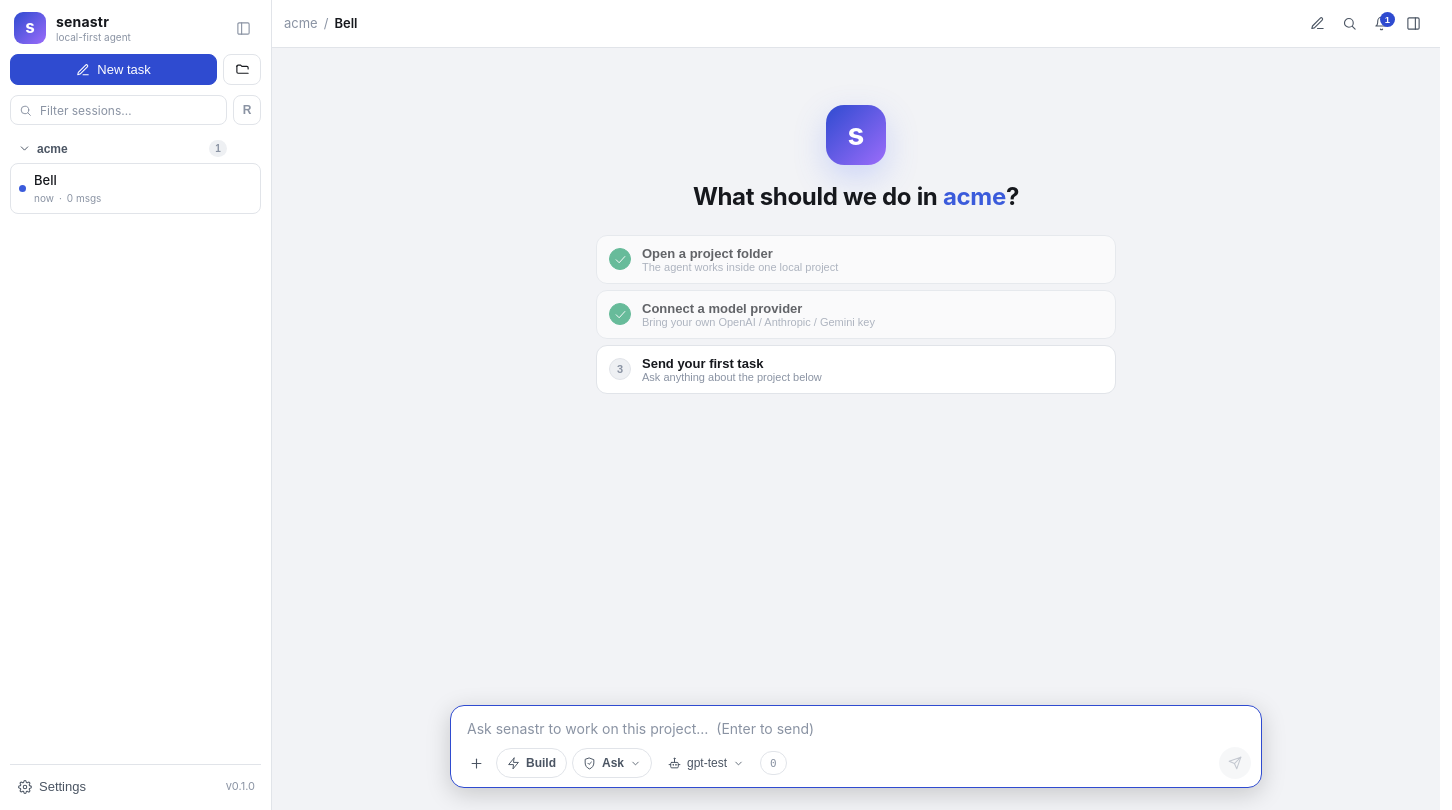
Test: chat shell — topbar › notification bell opens the work panel activity tab
The width and height of the screenshot is (1452, 810).
Click the button named "1 unread notification": click(1381, 24) [1366, 8, 1396, 38]
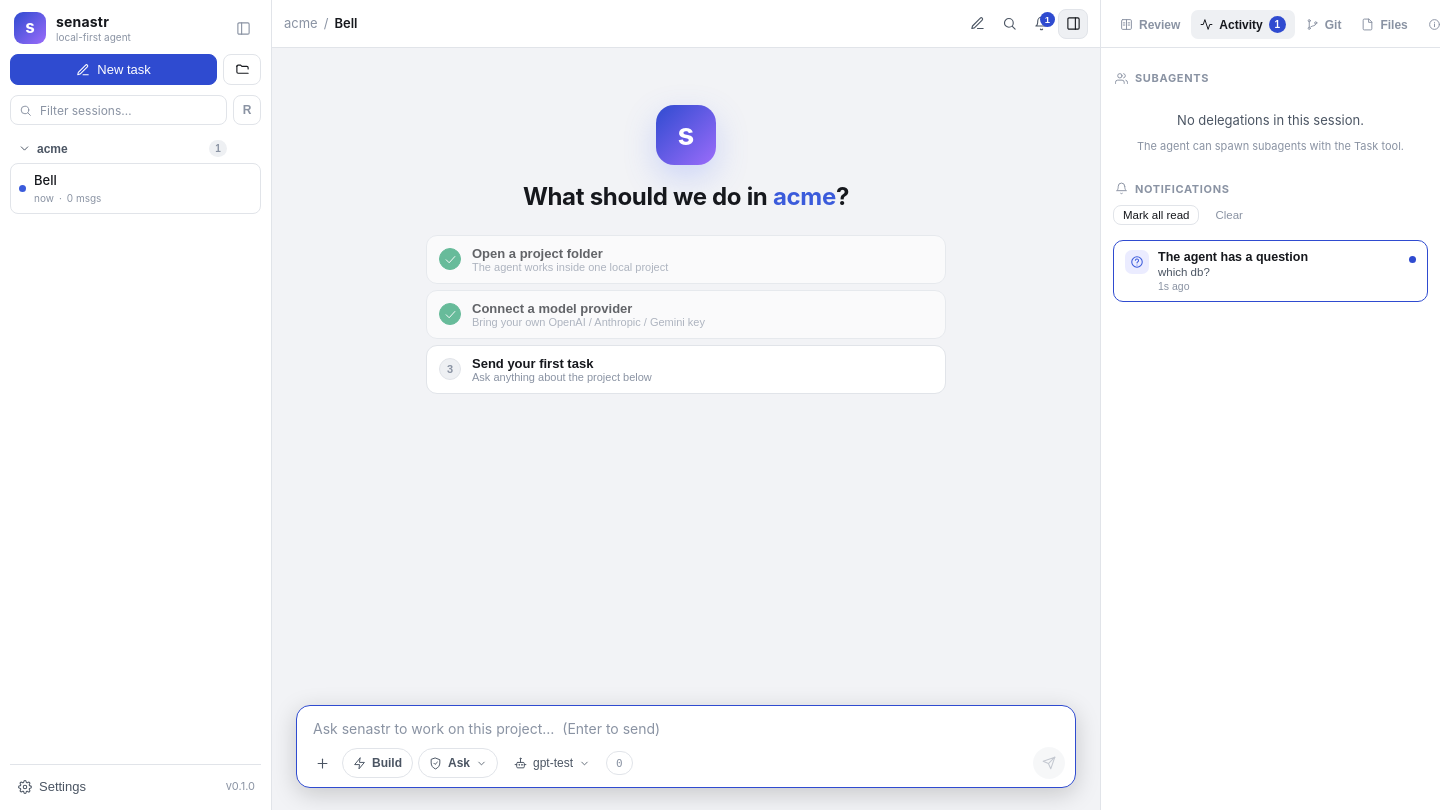
Now the text "The agent has a question" is shown, box [1158, 250, 1308, 264]
